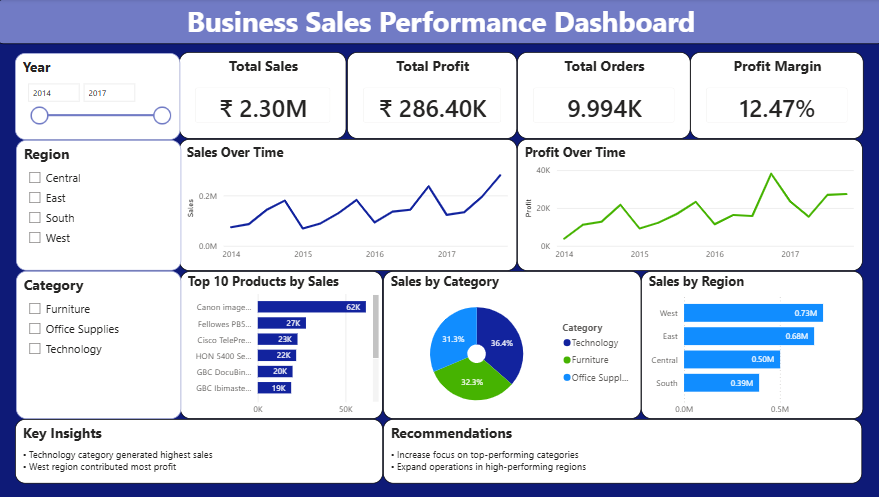

The dashboard page shown, as its layout file describes it:
{"tool":"powerbi","page":{"name":"Page 1","canvas":[1280,720],"ordinal":0},"visuals":[{"type":"textbox","title":"Business Sales Performance Dashboard","box":[0,0,1280,65],"z":1000},{"type":"cardVisual","title":"Total Sales","fields":{"Data":["Superstore.Total Sales"]},"box":[263.8,76.2,241.2,125],"z":2000},{"type":"cardVisual","title":"Profit Margin","fields":{"Data":["Superstore.Profit Margin","select"]},"box":[1000,76.7,250,125],"z":3000},{"type":"cardVisual","title":"Total Orders","fields":{"Data":["CountNonNull(Superstore.Order ID)"]},"box":[750,76.7,250,125],"z":4000},{"type":"cardVisual","title":"Total Profit","fields":{"Data":["Superstore.Total Profit"]},"box":[505,76.7,245,125],"z":5000},{"type":"lineChart","title":"Sales Over Time","fields":{"Category":["Superstore.Order Date.Variation.Date Hierarchy.Year","Superstore.Order Date.Variation.Date Hierarchy.Quarter","Superstore.Order Date.Variation.Date Hierarchy.Month","Superstore.Order Date.Variation.Date Hierarchy.Day"],"Y":["Sum(Superstore.Sales)"]},"box":[263.3,201.7,486.7,190],"z":6000},{"type":"lineChart","title":"Profit Over Time","fields":{"Category":["Superstore.Order Date.Variation.Date Hierarchy.Year","Superstore.Order Date.Variation.Date Hierarchy.Quarter","Superstore.Order Date.Variation.Date Hierarchy.Month","Superstore.Order Date.Variation.Date Hierarchy.Day"],"Y":["Superstore.Total Profit"]},"box":[750,201.7,498.3,190],"z":7000},{"type":"barChart","title":"Top 10 Products by Sales","fields":{"Y":["Sum(Superstore.Sales)"],"Category":["Superstore.Product Name"]},"box":[265,391.7,291.7,213.3],"z":8000},{"type":"donutChart","title":"Sales by Category","fields":{"Category":["Superstore.Category"],"Y":["Sum(Superstore.Sales)"]},"box":[556.7,391.7,371.7,213.3],"z":9000},{"type":"barChart","title":"Sales by Region","fields":{"Category":["Superstore.Sales Region"],"Y":["Sum(Superstore.Sales)"]},"box":[928.3,391.7,320,213.3],"z":10000},{"type":"textbox","title":"Recommendations","box":[556.7,605,690,93.3],"z":11000},{"type":"slicer","title":"Category","fields":{"Values":["Superstore.Category"]},"box":[28.3,391.7,238.3,213.3],"z":12000},{"type":"slicer","title":"Region","fields":{"Values":["Superstore.Sales Region"]},"box":[28.3,203.3,238.3,188.3],"z":13000},{"type":"slicer","title":"Year","fields":{"Values":["Superstore.Order Date.Variation.Date Hierarchy.Year"]},"box":[26.7,78.3,238.3,125],"z":14000},{"type":"textbox","title":"Key Insights","box":[26.7,605,530,93.3],"z":15000}]}

Visuals, with their boxes in screenshot pixels (x1, y1, x2, y2), scaled from the page's 1280x720 canvas onto the 879x497 screenshot:
"Business Sales Performance Dashboard" textbox: 0/0/878/45
"Total Sales" cardVisual: 181/53/347/139
"Profit Margin" cardVisual: 687/53/858/139
"Total Orders" cardVisual: 515/53/687/139
"Total Profit" cardVisual: 347/53/515/139
"Sales Over Time" lineChart: 181/139/515/270
"Profit Over Time" lineChart: 515/139/857/270
"Top 10 Products by Sales" barChart: 182/270/382/418
"Sales by Category" donutChart: 382/270/638/418
"Sales by Region" barChart: 637/270/857/418
"Recommendations" textbox: 382/418/856/482
"Category" slicer: 19/270/183/418
"Region" slicer: 19/140/183/270
"Year" slicer: 18/54/182/140
"Key Insights" textbox: 18/418/382/482
